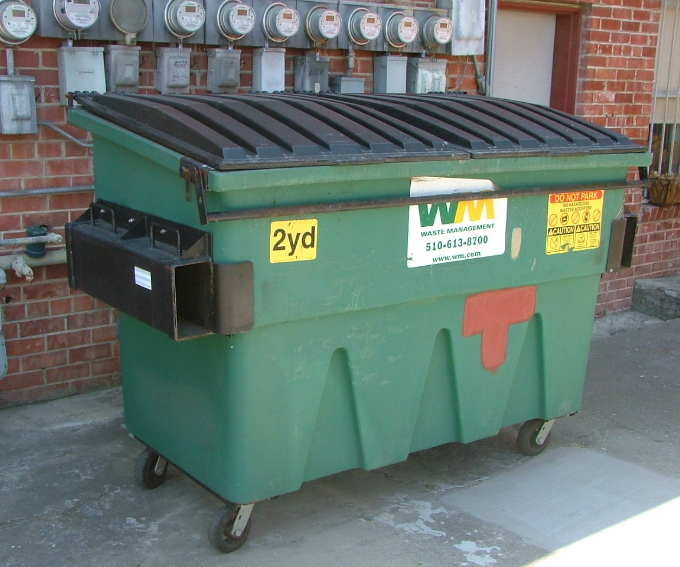Dumpster: (55, 71, 662, 556)
